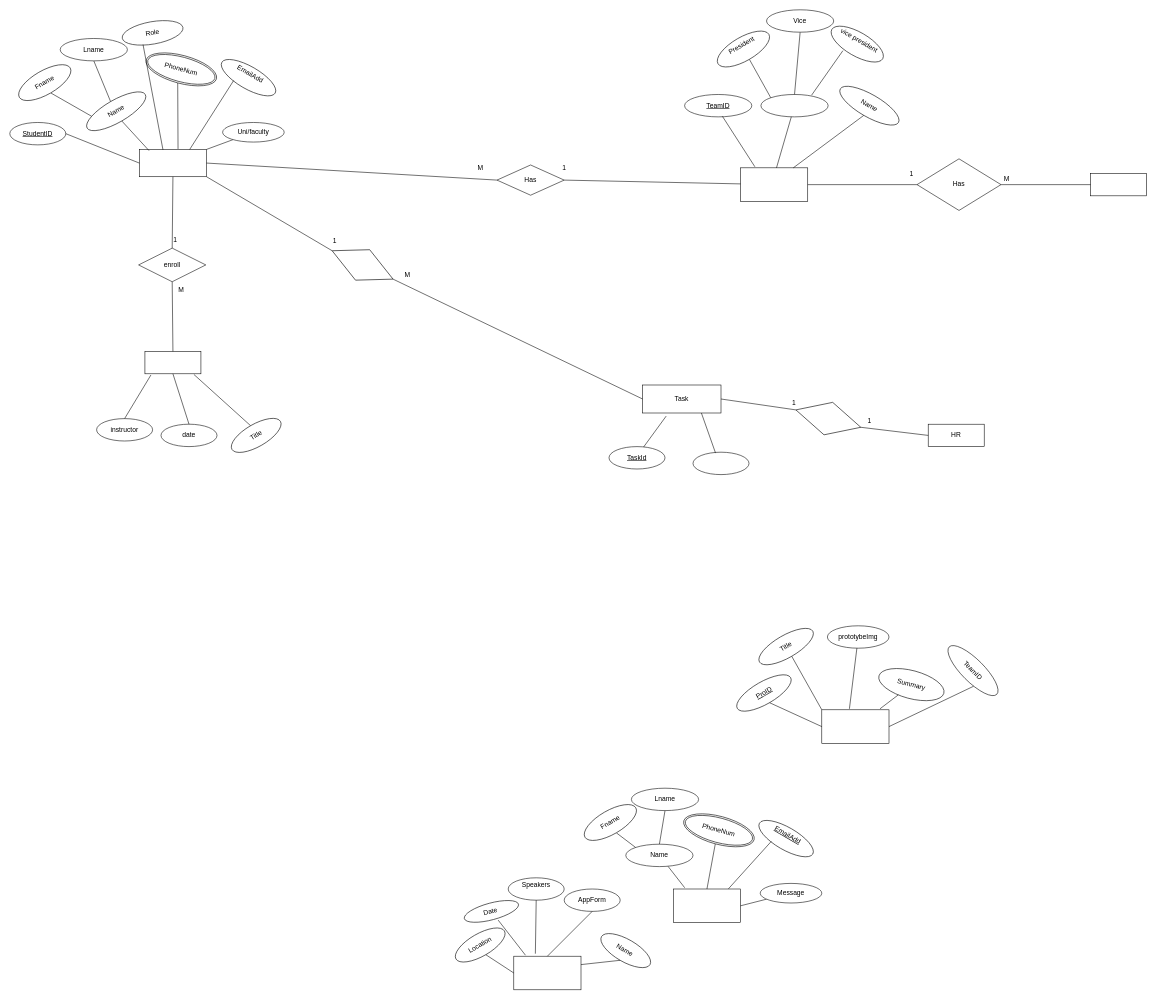
Image size: 1156x1000. Some labels were removed from this diagram. Here are the shapes that lost their labels. From the top down, the centre of each, then its label:
At pixel 794 105: "Leaders".
At pixel 173 163: "Member".
At pixel 774 184: "Team".
At pixel 1118 184: "board".
At pixel 362 264: "Upload".
At pixel 172 362: "Course".
At pixel 828 418: "evaluate".
At pixel 855 726: "Project".
At pixel 707 905: "ContactMessage".
At pixel 547 973: "Event".
